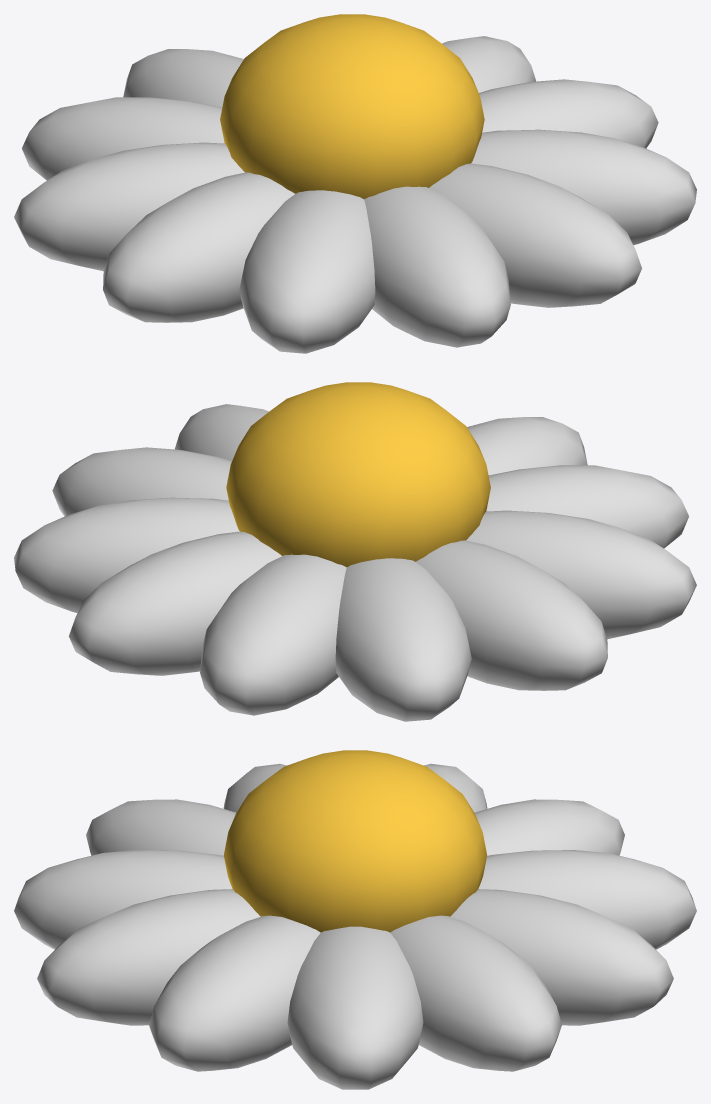
File: charm-daisy.glb
3 renders of one model, top to bottom at view 1: azimuth 30°, elevation 25°; view 2: azimuth 150°, elevation 25°; view 3: azimuth 270°, elevation 25°, orthographic.
Visible parts, largest first — view 1: Sphere.011, Sphere.006, Sphere.008, Sphere.007, Sphere.009, Sphere.005, Sphere.010, Sphere.004, Sphere, Sphere.003, Sphere.001; view 2: Sphere.011, Sphere.005, Sphere.003, Sphere.004, Sphere.002, Sphere.006, Sphere.001, Sphere.007, Sphere, Sphere.008, Sphere.010; view 3: Sphere.011, Sphere.001, Sphere.010, Sphere, Sphere.002, Sphere.009, Sphere.003, Sphere.008, Sphere.004, Sphere.007, Sphere.005, Sphere.006.
Part boxes in pixels (left/top/right/bottom): Sphere.011: left=220, top=14, right=484, bottom=199; Sphere.006: left=103, top=172, right=294, bottom=322; Sphere.008: left=364, top=186, right=510, bottom=347; Sphere.007: left=239, top=190, right=375, bottom=353; Sphere.009: left=429, top=163, right=641, bottom=307; Sphere.005: left=14, top=142, right=244, bottom=271; Sphere.010: left=471, top=129, right=696, bottom=244; Sphere.004: left=22, top=97, right=224, bottom=180; Sphere: left=479, top=79, right=658, bottom=148; Sphere.003: left=123, top=49, right=243, bottom=107; Sphere.001: left=442, top=36, right=535, bottom=92; Sphere.011: left=226, top=382, right=490, bottom=567; Sphere.005: left=416, top=540, right=607, bottom=690; Sphere.003: left=200, top=554, right=346, bottom=715; Sphere.004: left=335, top=558, right=471, bottom=721; Sphere.002: left=69, top=531, right=281, bottom=675; Sphere.006: left=466, top=510, right=696, bottom=639; Sphere.001: left=14, top=497, right=239, bottom=612; Sphere.007: left=486, top=465, right=688, bottom=548; Sphere: left=52, top=447, right=231, bottom=516; Sphere.008: left=467, top=417, right=587, bottom=475; Sphere.010: left=175, top=404, right=268, bottom=460; Sphere.011: left=223, top=750, right=487, bottom=932; Sphere.001: left=390, top=915, right=561, bottom=1071; Sphere.010: left=149, top=915, right=320, bottom=1071; Sphere: left=287, top=926, right=423, bottom=1089; Sphere.002: left=450, top=889, right=673, bottom=1025; Sphere.009: left=37, top=889, right=260, bottom=1025; Sphere.003: left=478, top=850, right=696, bottom=949; Sphere.008: left=14, top=850, right=232, bottom=949; Sphere.004: left=475, top=799, right=624, bottom=855; Sphere.007: left=86, top=799, right=235, bottom=855; Sphere.005: left=424, top=763, right=487, bottom=812; Sphere.006: left=223, top=763, right=286, bottom=812.
Size of the model in its own units: 0.0103 by 0.0036 by 0.0104.
